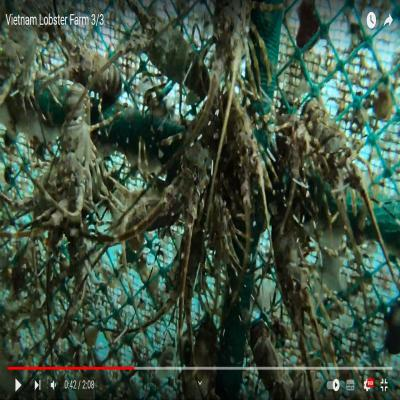lobster: (55, 89, 98, 203), (208, 2, 257, 78)
